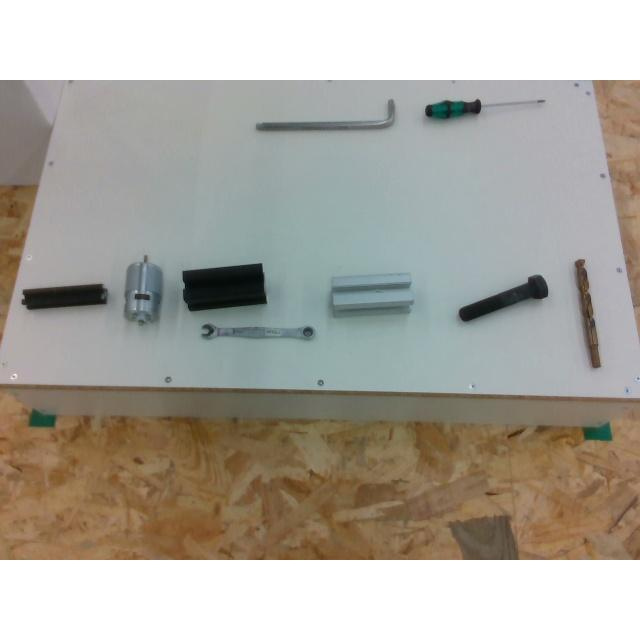AllenKey: (254, 98, 394, 130)
Drill: (574, 258, 602, 369)
F20_20_B: (21, 284, 107, 308)
M20_100: (458, 274, 548, 320)
Motor2: (124, 254, 160, 322)
S40_40_B: (182, 262, 266, 310)
S40_40_G: (330, 273, 412, 313), (330, 273, 410, 291)
Screwdriver: (425, 98, 545, 116)
Wrench: (202, 324, 318, 341)
